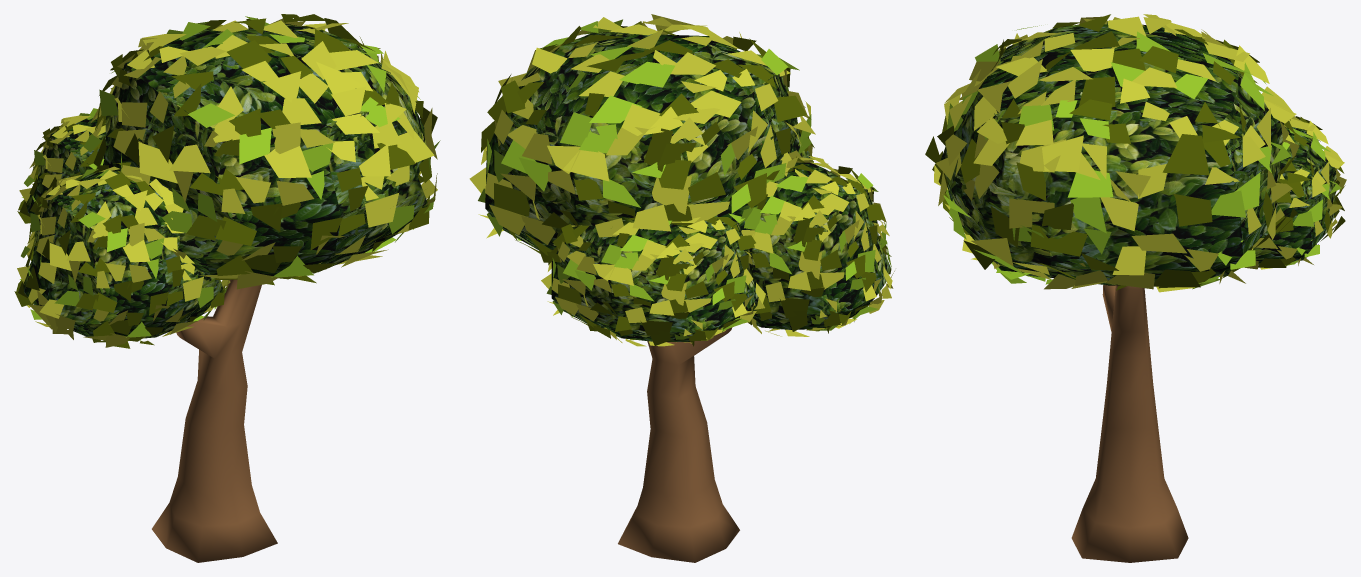
File: Tree 2.fbx
3 renders of one model, left to right at view 1: azimuth 30°, elevation 25°; view 2: azimuth 150°, elevation 25°; view 3: azimuth 270°, elevation 25°, orthographic. The views are drawn at different scales.
Visible parts, largest first — view 1: Cube.008; view 2: Cube.008; view 3: Cube.008.
Boxes of the visible parts, x1,y1,x2,y2 form: Cube.008: (14,14,440,562); Cube.008: (469,14,894,562); Cube.008: (925,14,1346,562).
Bounding box in the file's own units: 420 × 515 × 383.
5 materials, 1 textured.
